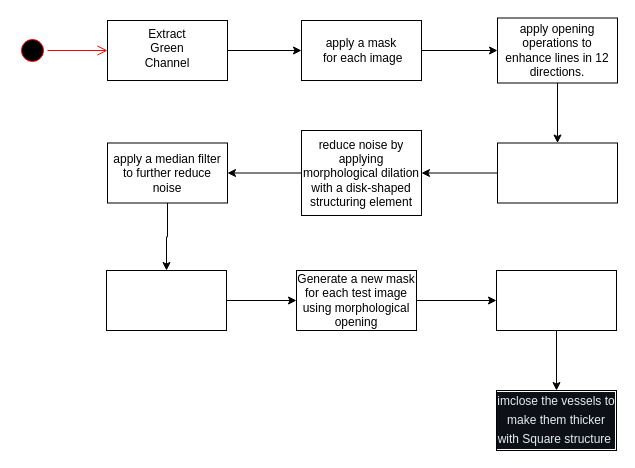
Image size: 635x468. Some labels were removed from this diagram. Here are the shapes that lost their labels. From the top down, the centre of each, then its label:
pixel 557 172: apply adaptive thresholding based on the median filter of the image
pixel 166 300: apply opening operation to remove small objects
pixel 556 300: apply the new mask for each image
